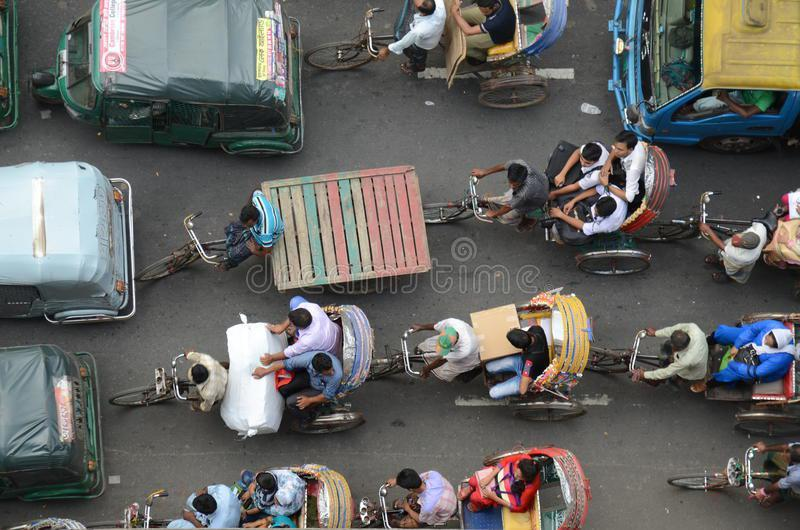cng: (34, 0, 307, 156), (0, 162, 137, 327), (0, 345, 108, 502)
manual-van: (142, 163, 434, 297)
rickshaw: (429, 130, 678, 279), (112, 298, 373, 438), (371, 293, 593, 428), (313, 2, 571, 113), (588, 308, 800, 440), (353, 445, 591, 530), (119, 459, 352, 530), (660, 191, 800, 285), (656, 439, 800, 510)
truck: (607, 0, 800, 152)
